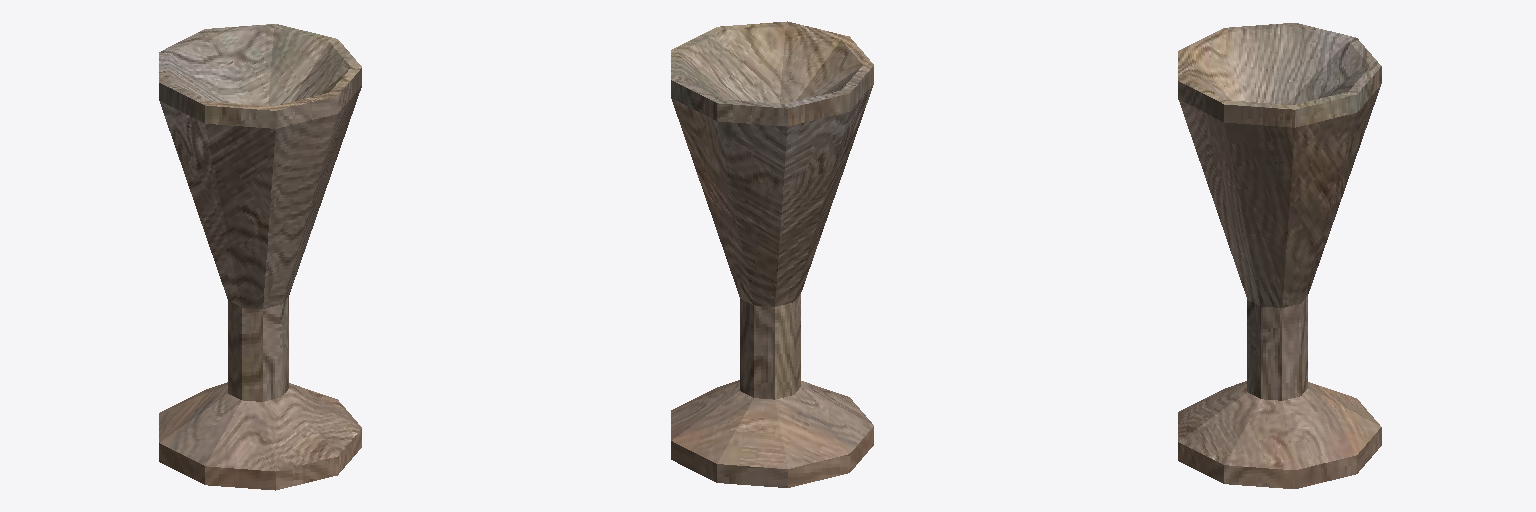
The picture shows the model from 3 angles: view 1: azimuth 30°, elevation 25°; view 2: azimuth 150°, elevation 25°; view 3: azimuth 270°, elevation 25°; orthographic projection.
Visible parts, largest first — view 1: Cylinder; view 2: Cylinder; view 3: Cylinder.
Part boxes in pixels (x1,y1,x2,y2): Cylinder: (159, 24, 361, 490); Cylinder: (671, 21, 873, 487); Cylinder: (1178, 23, 1381, 488).
Bounding box in the file's own units: 1.97 × 4 × 1.94.
Materials: 1 (1 with a texture image).